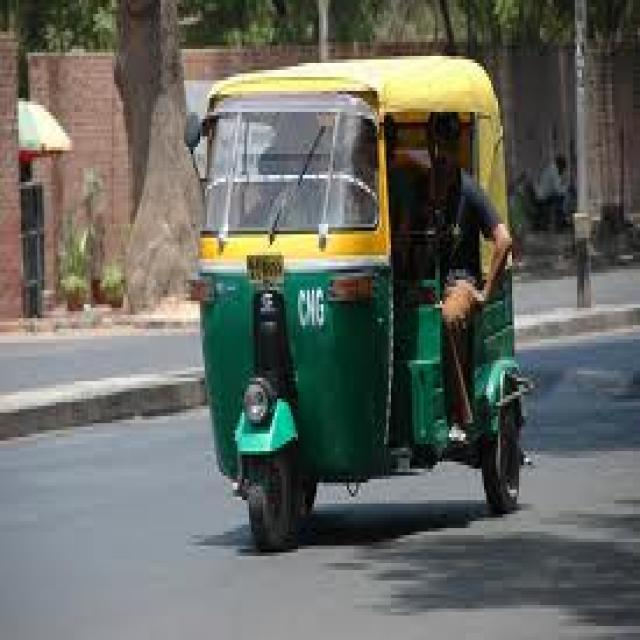auto_front: (191, 49, 531, 538)
